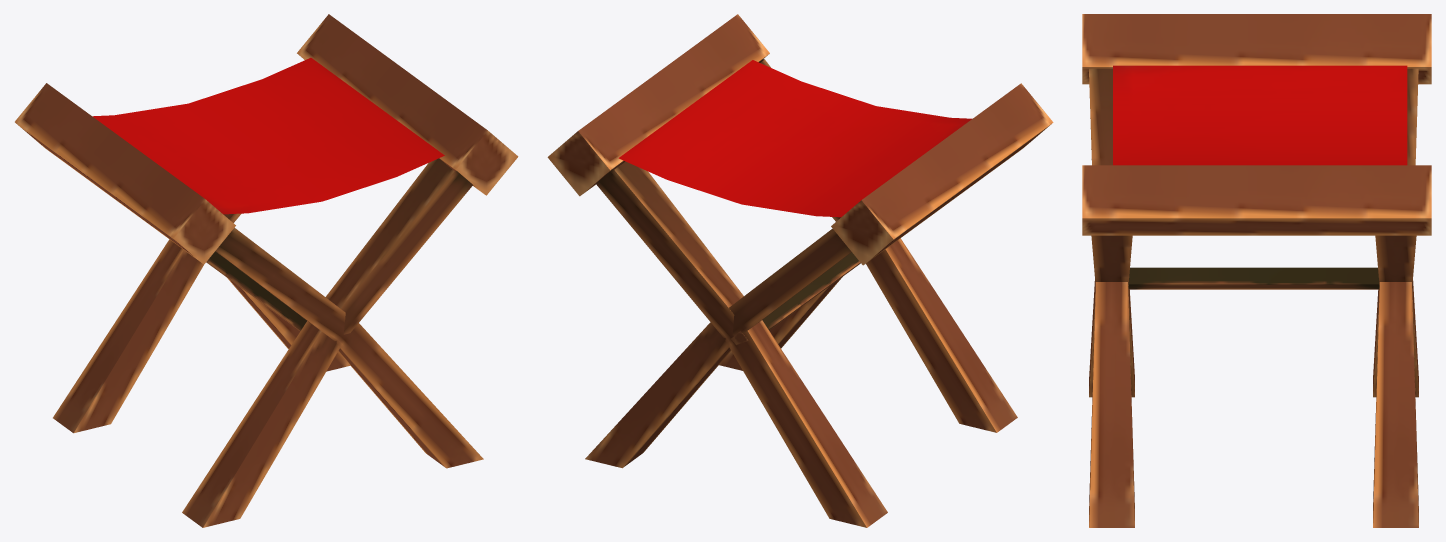
The model's file is Rome_Village_Props_12.FBX.
3 renders of one model, left to right at view 1: azimuth 30°, elevation 25°; view 2: azimuth 150°, elevation 25°; view 3: azimuth 270°, elevation 25°, orthographic. The views are drawn at different scales.
Parts seen in each view (by area): view 1: Rome_Village_Props_12; view 2: Rome_Village_Props_12; view 3: Rome_Village_Props_12.
Part boxes in pixels (left/top/right/bottom): Rome_Village_Props_12: left=15, top=14, right=518, bottom=527; Rome_Village_Props_12: left=547, top=14, right=1053, bottom=527; Rome_Village_Props_12: left=1082, top=14, right=1431, bottom=527.
Size of the model in its own units: 64.71 by 59.33 by 51.75.
